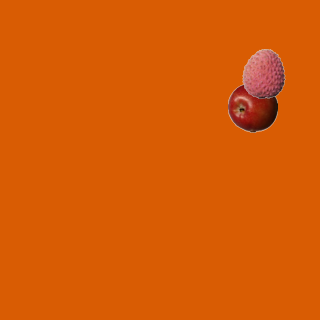Apple Braeburn: (227, 82, 277, 132)
Lychee: (238, 48, 288, 98)
